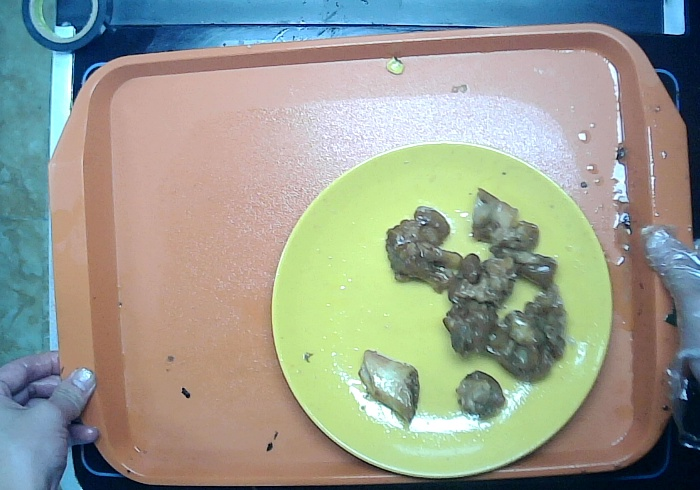HZYJPL-Huang_Se_Yuan_Pan: (266, 137, 621, 486)
